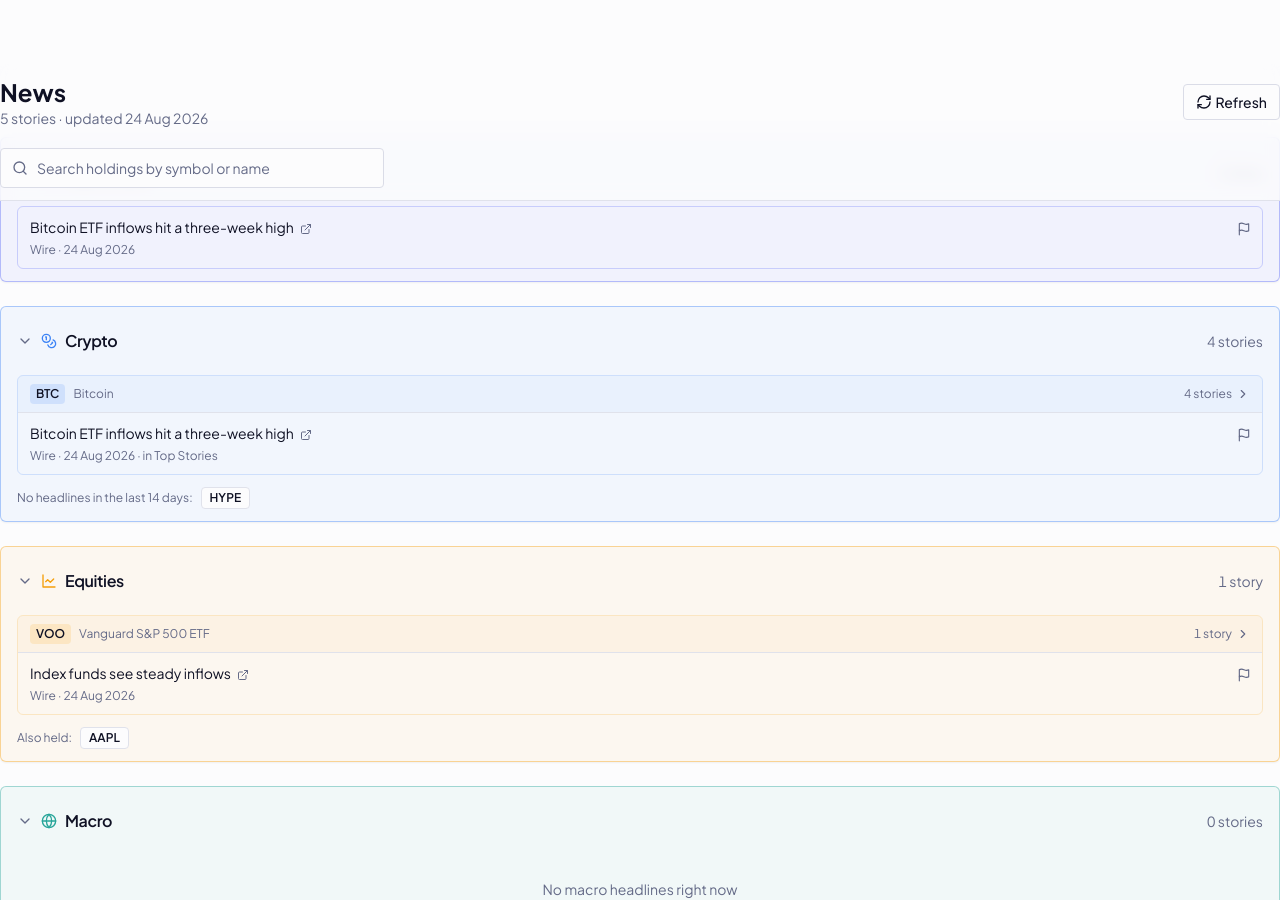
Test: News page › holding cards › lists quiet and not-loaded holdings as shortcuts that open their dossier
The image size is (1280, 900).
expect the buttons read "HYPE Hyperliquid", in this order: met, box [201,487,250,509]
Click the button named "AAPL Apple Inc.".
click(104, 738)  # box [80,727,129,749]
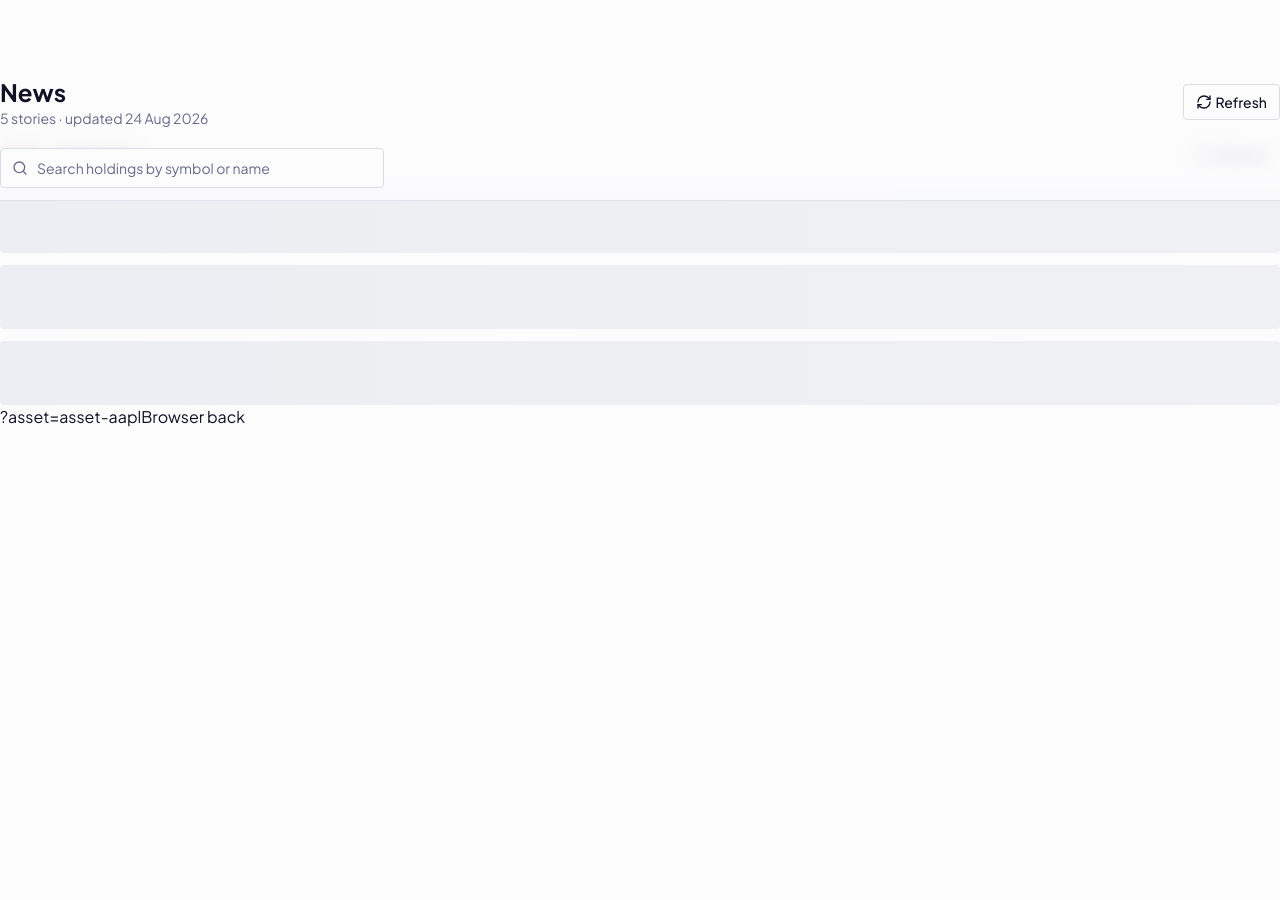
expect the text with test id "location-search" reads "?asset=asset-aapl": met, box [0,406,141,427]
